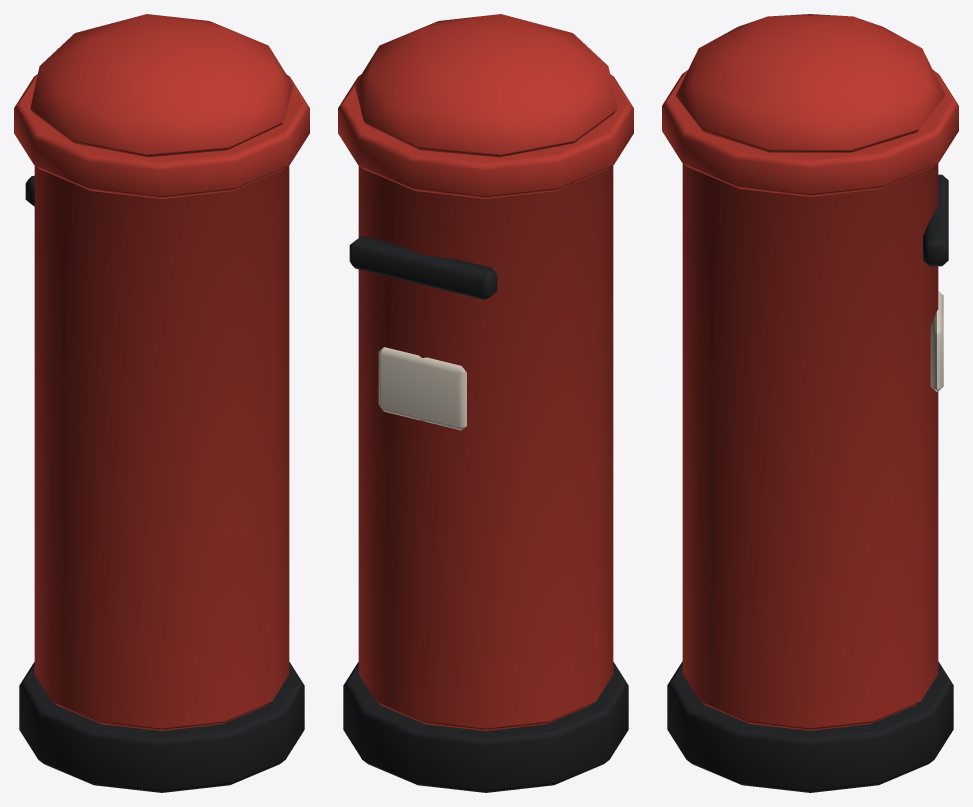
Rendered from mailbox.glb.
The picture shows the model from 3 angles, left to right: view 1: azimuth 30°, elevation 25°; view 2: azimuth 150°, elevation 25°; view 3: azimuth 270°, elevation 25°; orthographic projection.
Visible parts, largest first — view 1: Body; view 2: Body; view 3: Body.
Boxes of the visible parts, x1,y1,x2,y2 form: Body: (14, 14, 309, 792); Body: (338, 14, 633, 792); Body: (662, 14, 958, 792).
Size of the model in its own units: 0.58 by 1.52 by 0.58.
Materials: 1 (1 with a texture image).
